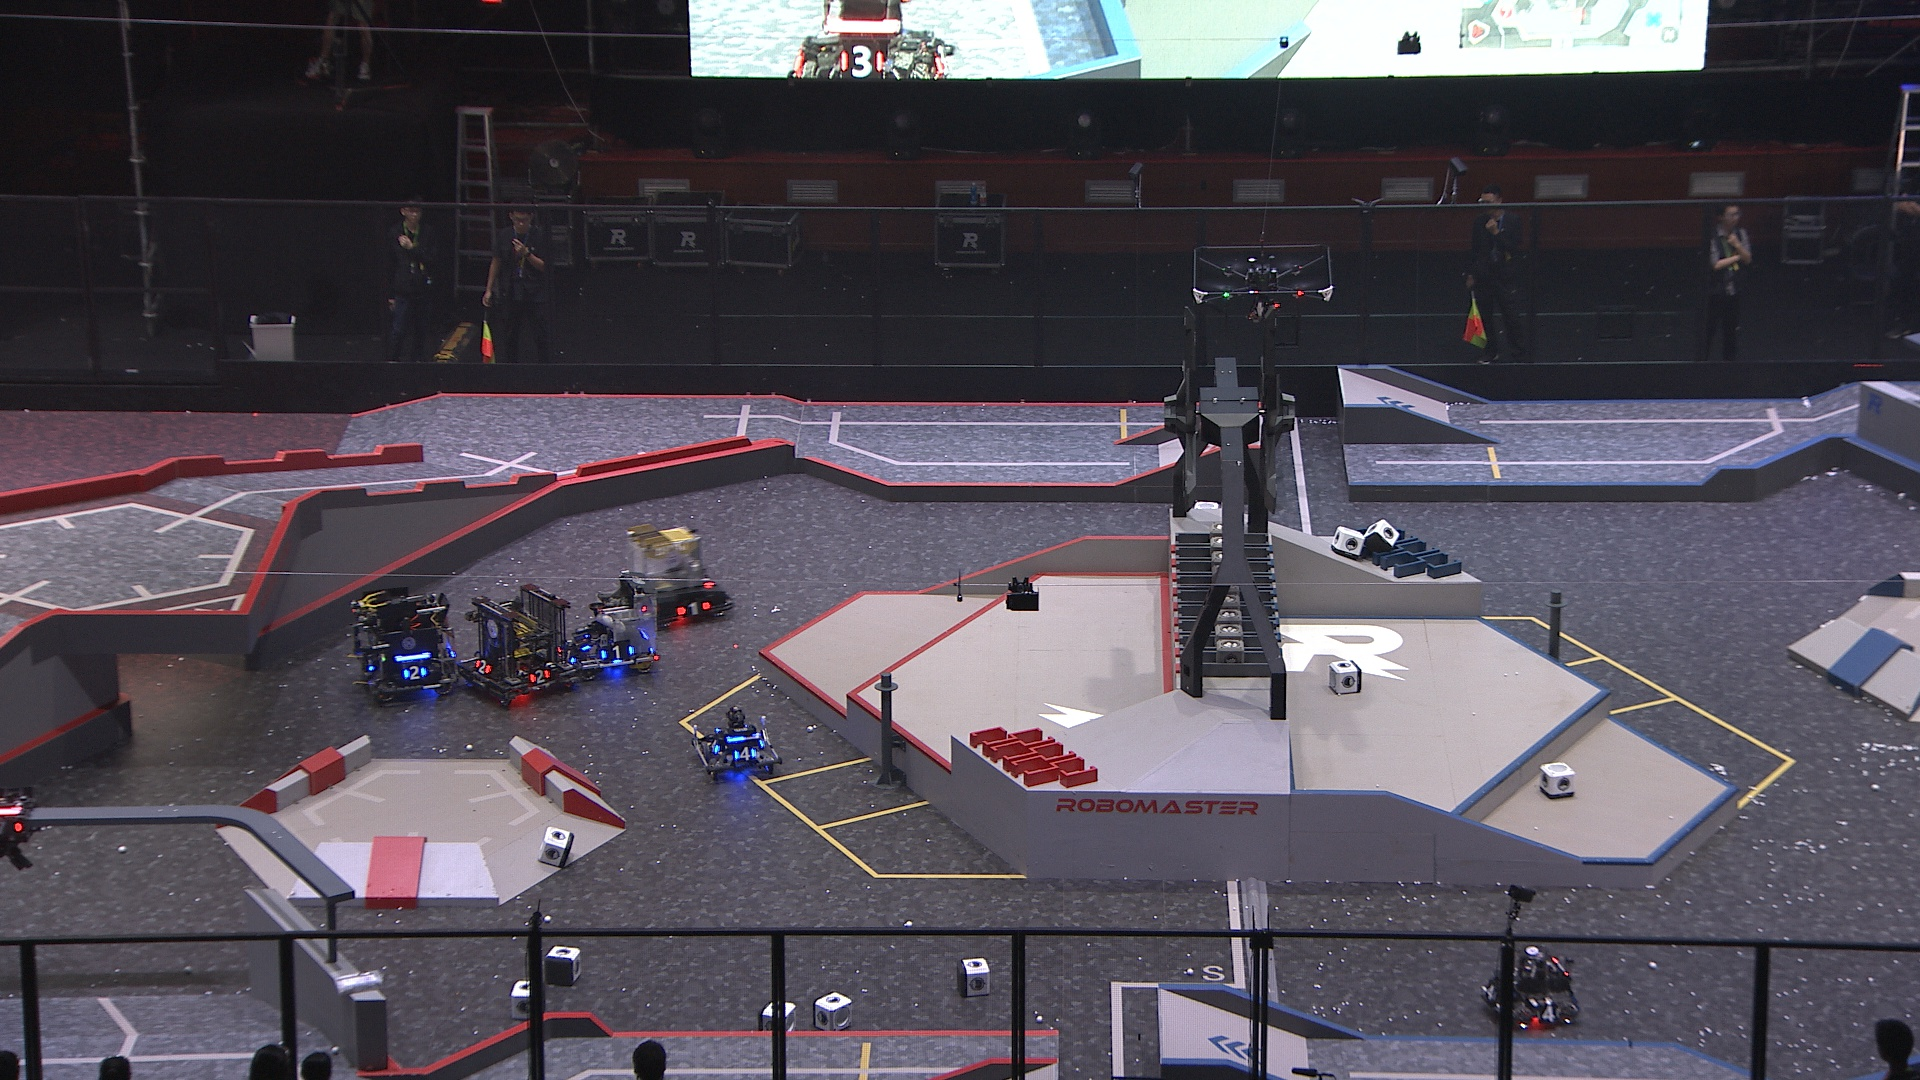armor: (599, 641, 640, 665), (674, 599, 711, 621), (1534, 1004, 1563, 1025), (570, 628, 589, 651), (1481, 978, 1499, 1004), (731, 745, 756, 764), (359, 655, 380, 675), (404, 665, 429, 680), (473, 657, 493, 676), (698, 570, 716, 591), (560, 645, 579, 666), (527, 669, 551, 684), (709, 735, 724, 757)
car: (348, 583, 473, 704), (456, 582, 575, 708), (556, 570, 662, 680), (622, 522, 733, 626), (1476, 943, 1580, 1035), (688, 705, 782, 781)
ignore: (785, 0, 959, 82)
